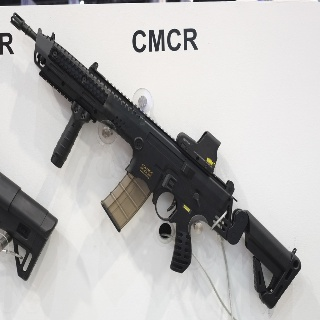rifle: (10, 11, 302, 310)
